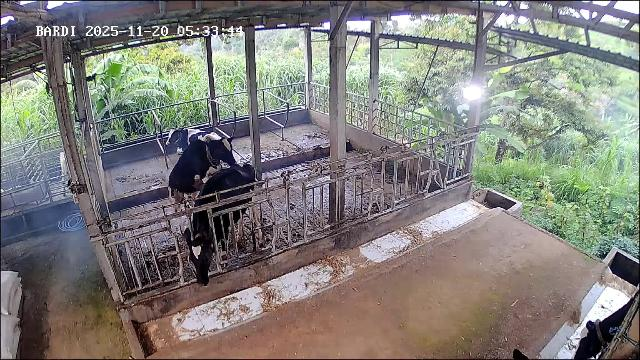mounting: (162, 137, 238, 218)
